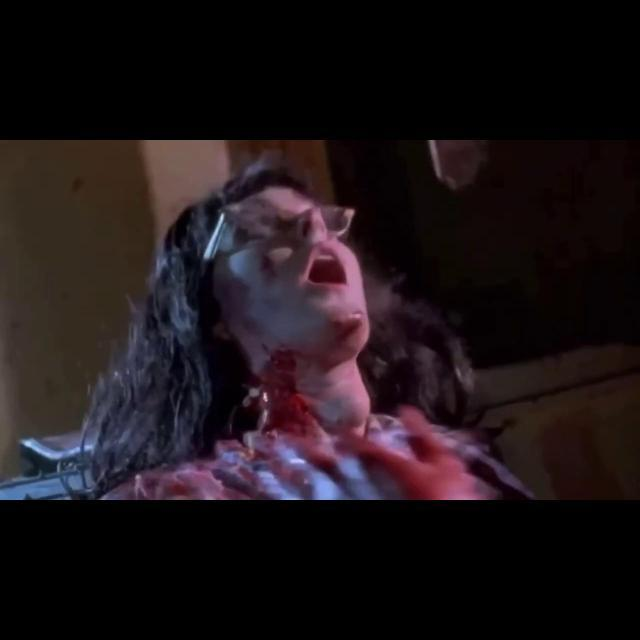blood: (103, 350, 528, 500), (326, 309, 365, 345)
